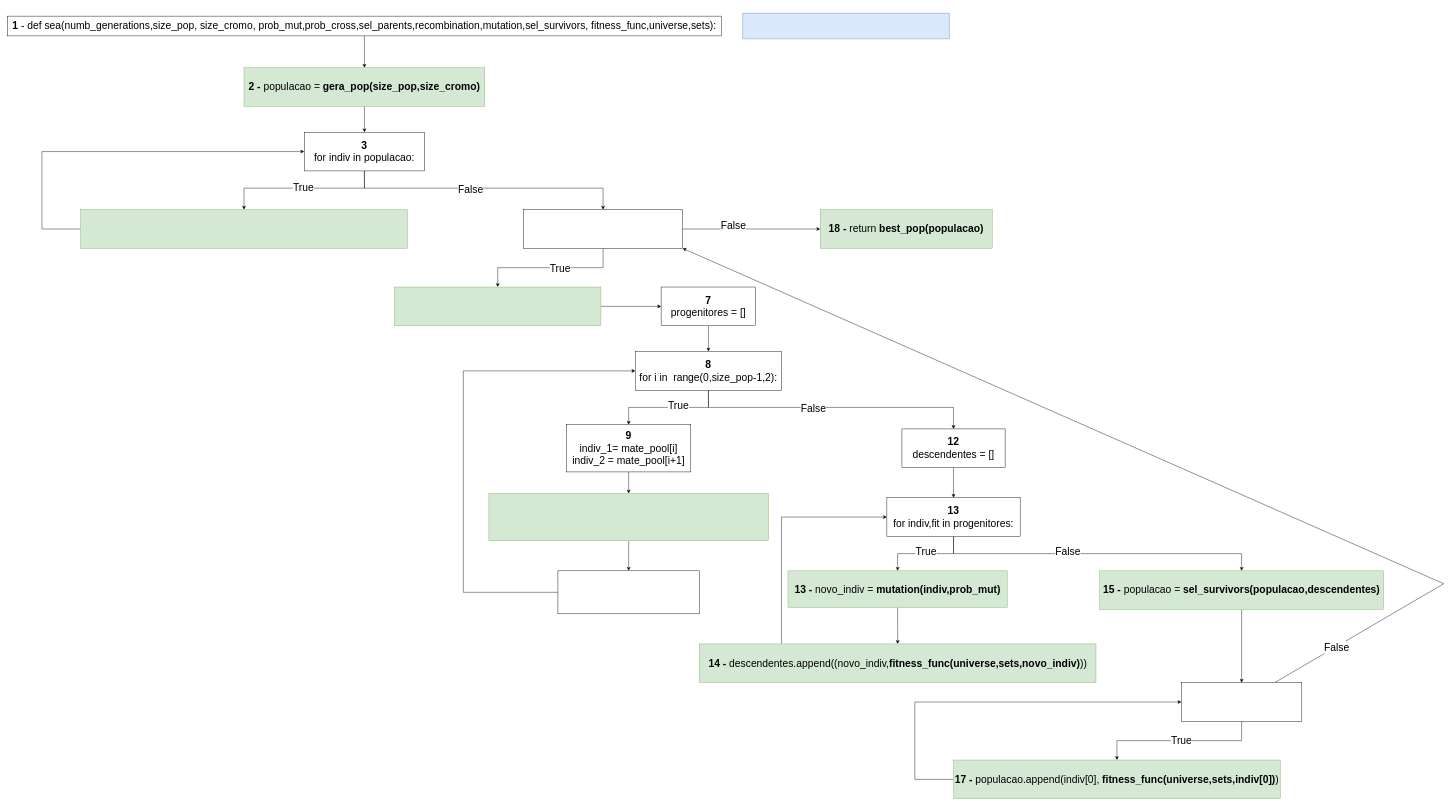
This 1455x806 diagram has some shape labels left out. Here are the shapes that lost their labels. From the top down, the box of each, then its label:
(742, 13, 949, 39): Vg = 6 (Excluding functions being called)
(80, 209, 407, 248): 4 - populacao.append(indiv[0], fitness_func(universe,sets,indiv[0]) )
(523, 209, 683, 248): 5 for i in range(numb_generations):
(394, 287, 601, 326): 6 - mate_pool = sel_parents(populacao)
(488, 493, 768, 541): 10 - filhos = recombination(indiv_1,indiv_2, prob_cross)
(557, 570, 699, 614): 11 progenitores.extend(filhos)
(1181, 682, 1302, 721): 16 for indiv in populacao:
